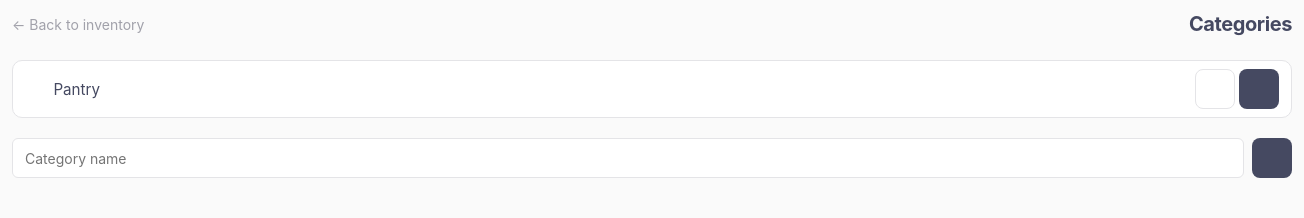
Test: StockGroupsPage › shows a rename error when the PATCH rejects and restores the name
Click the button named "rename" at (1259, 89), box [1239,69,1279,109]
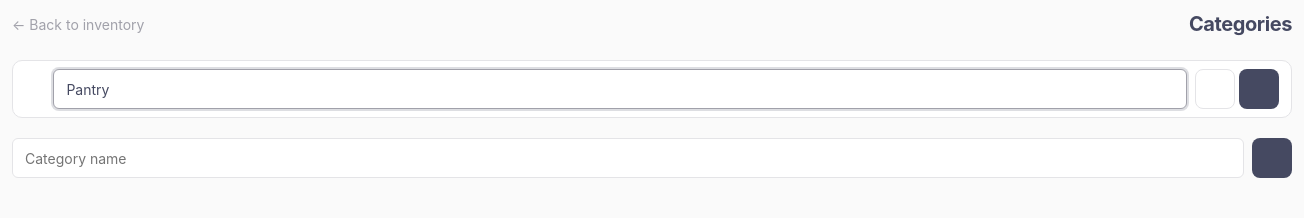
Replace the text in the field named "rename" with "Despensa" at (620, 89), box [53,69,1187,109]
Then press Enter
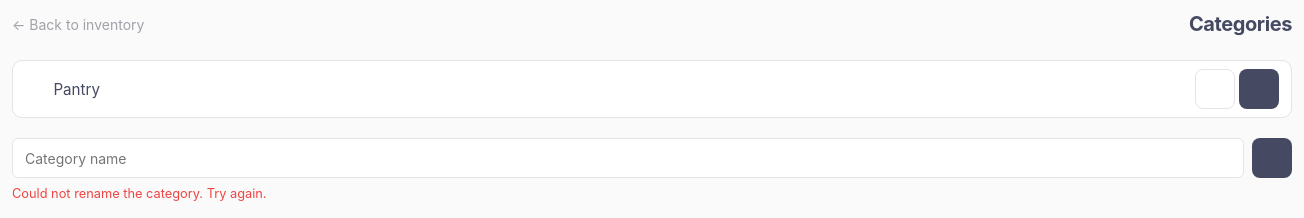
Result: the text "Could not rename the category. Try again." is shown at [12,186,266,201]
